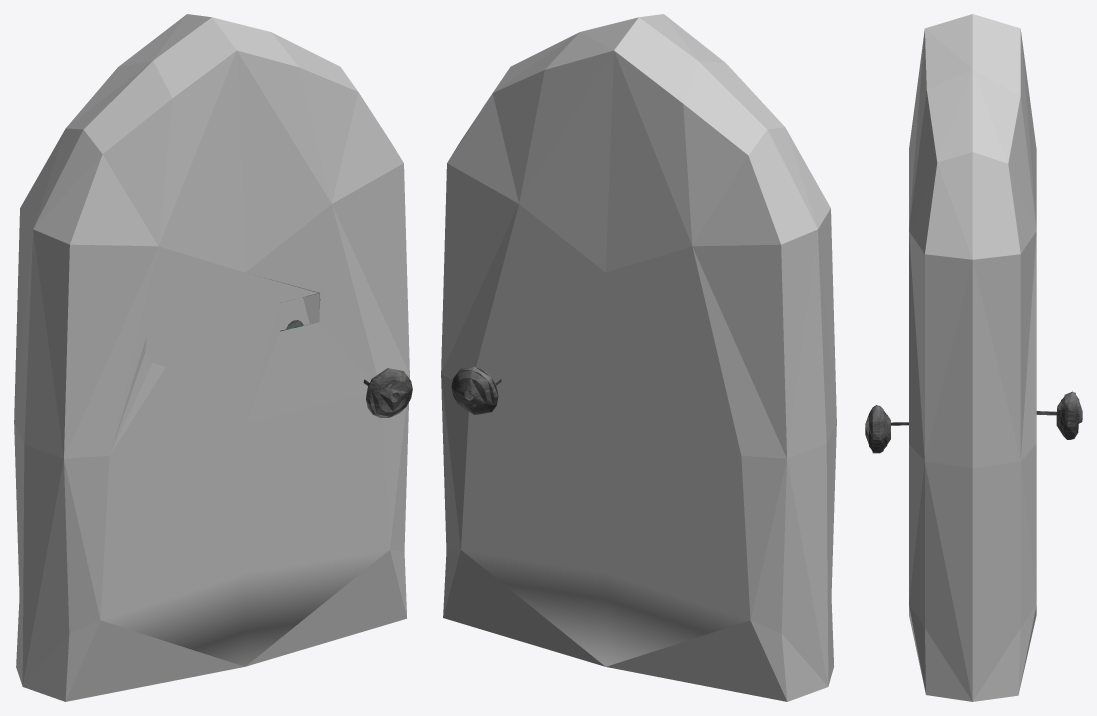
File: portapedras2pivot.FBX
3 renders of one model, left to right at view 1: azimuth 30°, elevation 25°; view 2: azimuth 150°, elevation 25°; view 3: azimuth 270°, elevation 25°, orthographic. The views are drawn at different scales.
Parts seen in each view (by area): view 1: Box004; view 2: Box004; view 3: Box004.
Boxes of the visible parts, x1=… form: Box004: x1=14, y1=14, x2=412, y2=701; Box004: x1=441, y1=14, x2=836, y2=701; Box004: x1=865, y1=14, x2=1082, y2=701.
Bounding box in the file's own units: 104 × 165 × 54.02.
